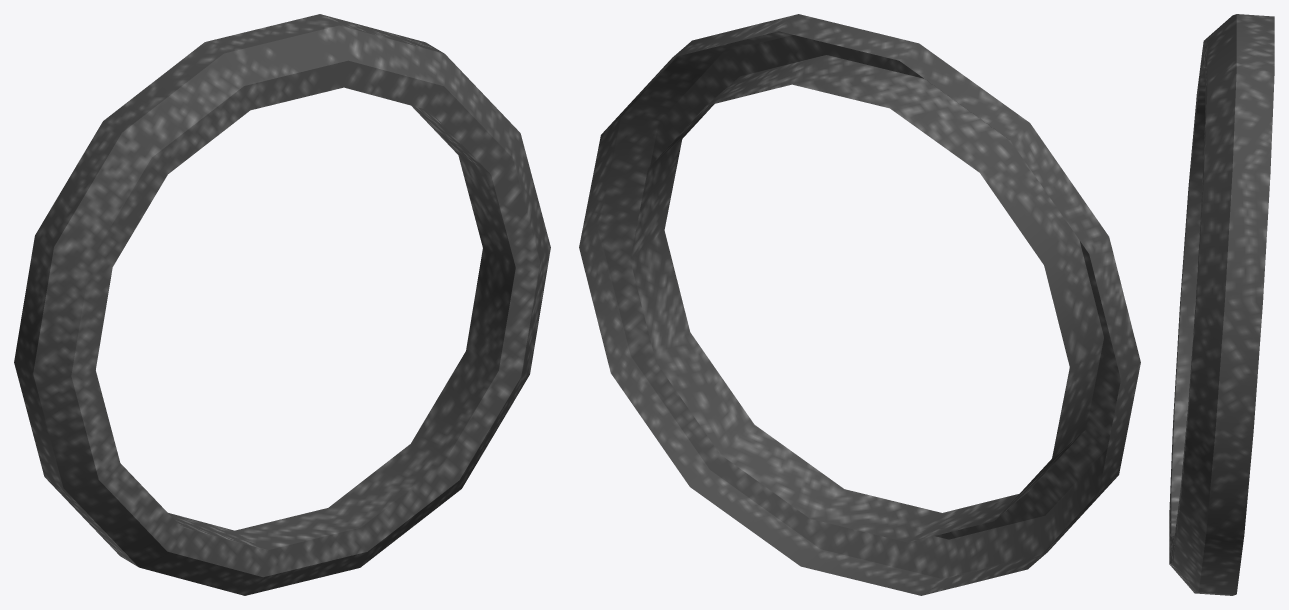
Rendered from door_handle.obj.
3 views of the same model, side by side, from view 1: azimuth 30°, elevation 25°; view 2: azimuth 150°, elevation 25°; view 3: azimuth 270°, elevation 25° (orthographic). The views are drawn at different scales.
Parts seen in each view (by area): view 1: pTorus2; view 2: pTorus2; view 3: pTorus2.
Part boxes in pixels (<box>): pTorus2: <box>14,14,550,595</box>; pTorus2: <box>579,14,1140,595</box>; pTorus2: <box>1169,14,1274,595</box>.
Bounding box in the file's own units: 0.1175 × 0.1148 × 0.0208.
1 material, 1 textured.
